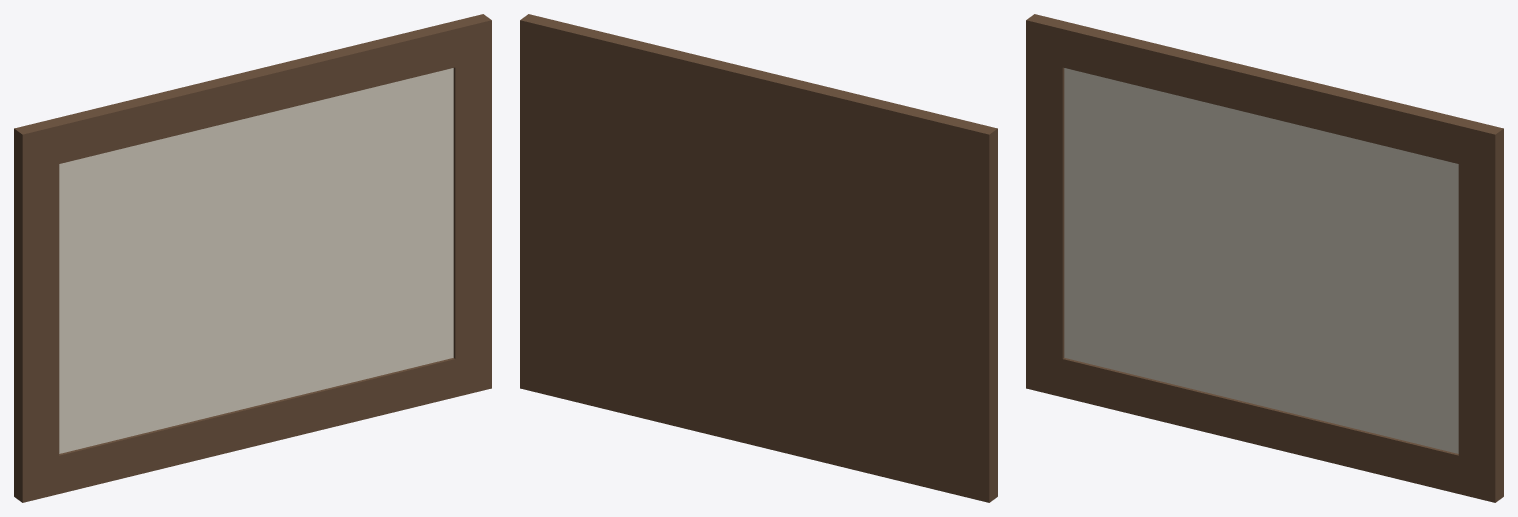
Rendered from engraving.glb.
3 views of the same model, side by side, from view 1: azimuth 30°, elevation 25°; view 2: azimuth 150°, elevation 25°; view 3: azimuth 330°, elevation 25° (orthographic).
Parts seen in each view (by area): view 1: engraving; view 2: engraving; view 3: engraving.
Boxes of the visible parts, x1,y1,x2,y2 form: engraving: [14, 14, 491, 502]; engraving: [520, 14, 997, 502]; engraving: [1026, 14, 1503, 502].
Size of the model in its own units: 0.64 by 0.48 by 0.02.
